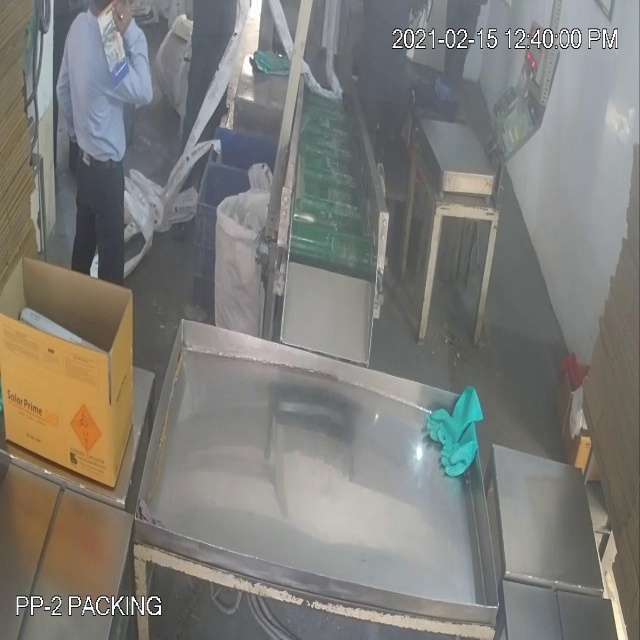Guantes: (425, 380, 484, 482)
Sin_guantes: (108, 1, 157, 118)
